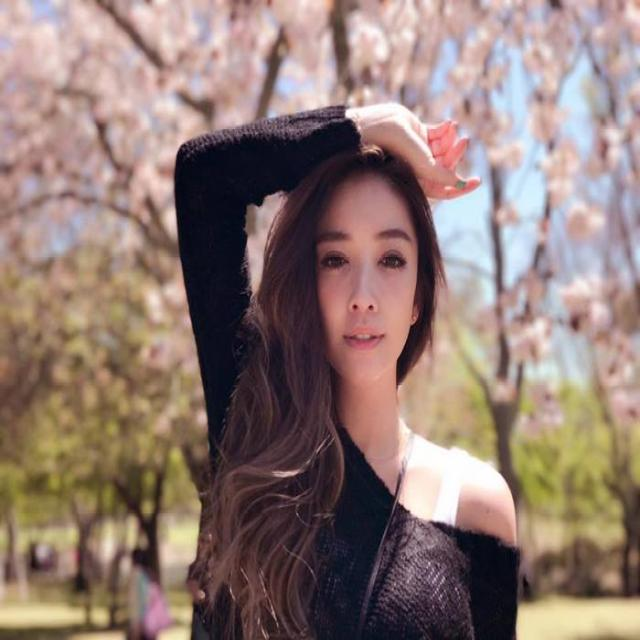mobile_phonerotation: (173, 100, 521, 636)
